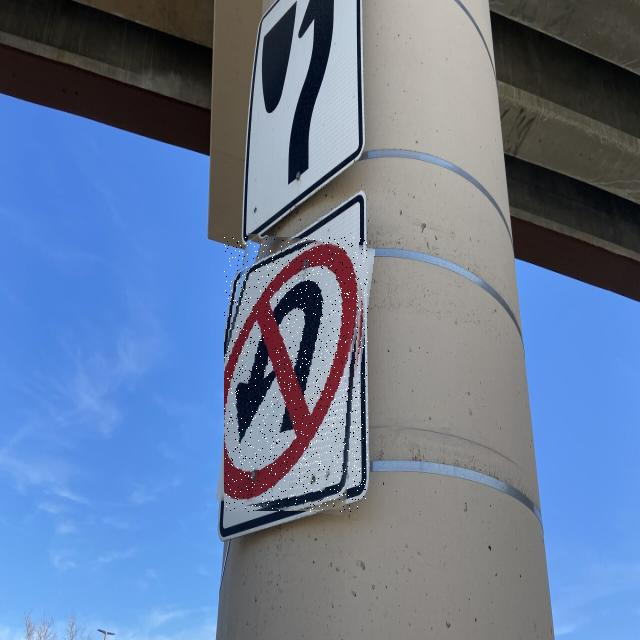no u turn: (224, 237, 368, 512)
